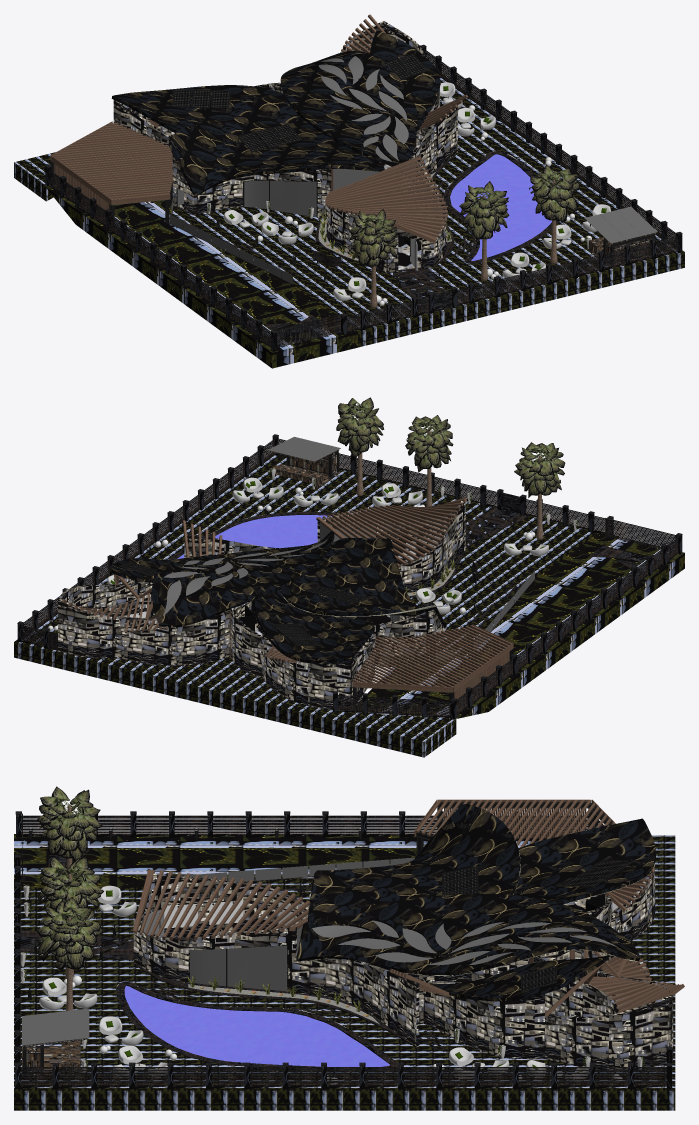
3 renders of one model, top to bottom at view 1: azimuth 30°, elevation 25°; view 2: azimuth 150°, elevation 25°; view 3: azimuth 270°, elevation 25°, orthographic. The views are drawn at different scales.
Parts seen in each view (by area): view 1: GarageFloor, East Roof, Pool, RoofPillar, Walls, Water, Windows, WindowWallType14, Glass, Glass balcony, BarFloor, Window (+2 smaller); view 2: GarageFloor, Walls, East Roof, Pool, RoofPillar, Water, Windows, BarFloor, Glass, GarageWoodRoof, Glass balcony; view 3: GarageFloor, East Roof, Walls, Pool, RoofPillar, Water, Windows, WindowWallType2, Glass, Glass balcony, BarFloor, GarageWoodRoof (+1 smaller).
Part boxes in pixels (<box>): GarageFloor: <box>14,77,684,368</box>; East Roof: <box>111,30,440,196</box>; Pool: <box>45,44,682,351</box>; RoofPillar: <box>50,14,468,242</box>; Walls: <box>113,21,457,273</box>; Water: <box>450,154,551,260</box>; Windows: <box>318,56,408,161</box>; WindowWallType14: <box>244,180,316,217</box>; Glass: <box>584,206,657,243</box>; Glass balcony: <box>169,197,292,283</box>; BarFloor: <box>588,232,655,266</box>; Window: <box>333,169,379,190</box>; GarageFloor: <box>14,455,684,757</box>; Walls: <box>58,501,465,710</box>; East Roof: <box>109,531,446,663</box>; Pool: <box>17,434,682,719</box>; RoofPillar: <box>62,497,513,692</box>; Water: <box>177,515,331,558</box>; Windows: <box>163,538,328,615</box>; BarFloor: <box>270,449,340,488</box>; Glass: <box>268,436,340,461</box>; GarageWoodRoof: <box>454,651,509,710</box>; Glass balcony: <box>435,570,534,660</box>; GarageFloor: <box>14,834,675,1110</box>; East Roof: <box>296,804,655,1001</box>; Walls: <box>133,864,673,1069</box>; Pool: <box>14,811,672,1089</box>; RoofPillar: <box>133,799,684,1017</box>; Water: <box>124,985,389,1066</box>; Windows: <box>312,920,618,965</box>; WindowWallType2: <box>190,945,286,991</box>; Glass: <box>22,1008,89,1045</box>; Glass balcony: <box>181,857,414,881</box>; BarFloor: <box>22,1038,87,1074</box>; GarageWoodRoof: <box>444,808,586,838</box>.
Size of what is drawn, in the model's own units: 57.85 by 14.41 by 63.96.
21 materials, 19 textured.
